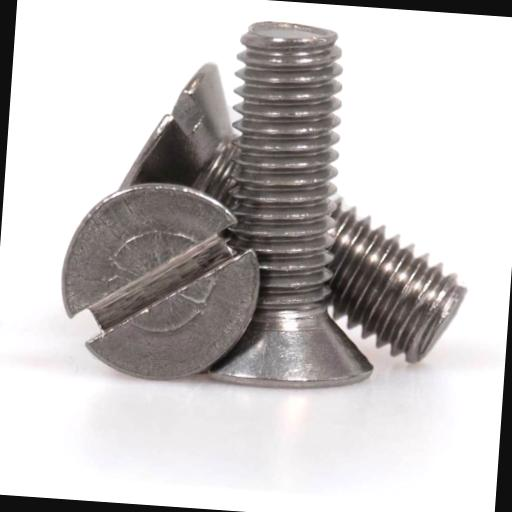Slotted: (55, 180, 270, 386)
